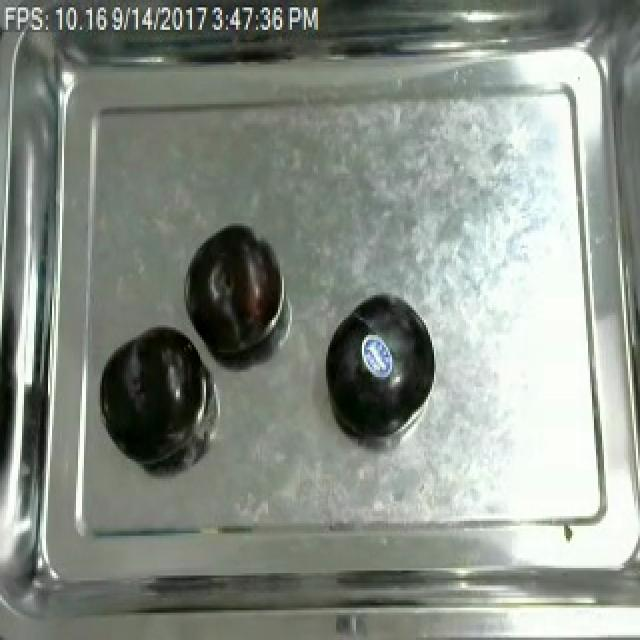Fruit: (320, 283, 440, 444), (100, 322, 210, 469), (182, 218, 280, 362)
